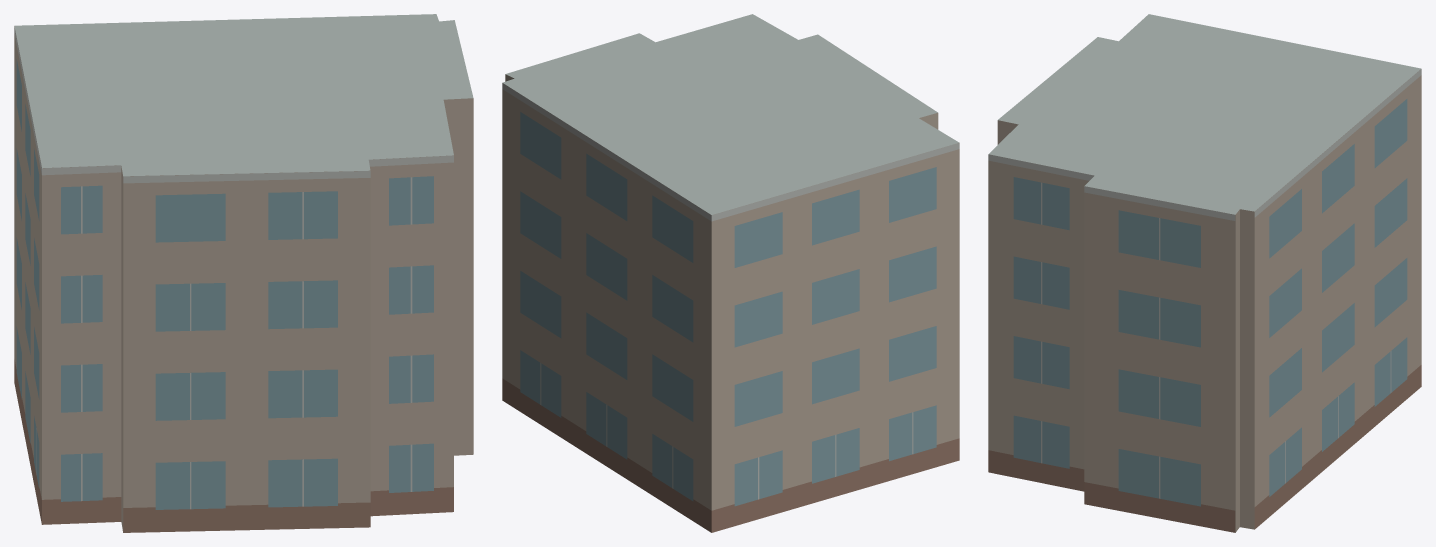
Rendered from survey-upis-32711840.glb.
3 renders of one model, left to right at view 1: azimuth 30°, elevation 25°; view 2: azimuth 150°, elevation 25°; view 3: azimuth 270°, elevation 25°, orthographic. The views are drawn at different scales.
Visible parts, largest first — view 1: survey-upis-32711840.tmp; view 2: survey-upis-32711840.tmp; view 3: survey-upis-32711840.tmp.
Boxes of the visible parts, box(x1,y1,x2,y2) form: survey-upis-32711840.tmp: box(14, 14, 473, 532); survey-upis-32711840.tmp: box(502, 14, 959, 532); survey-upis-32711840.tmp: box(988, 14, 1421, 532).
Bounding box in the file's own units: 16.53 × 12.2 × 15.07.
